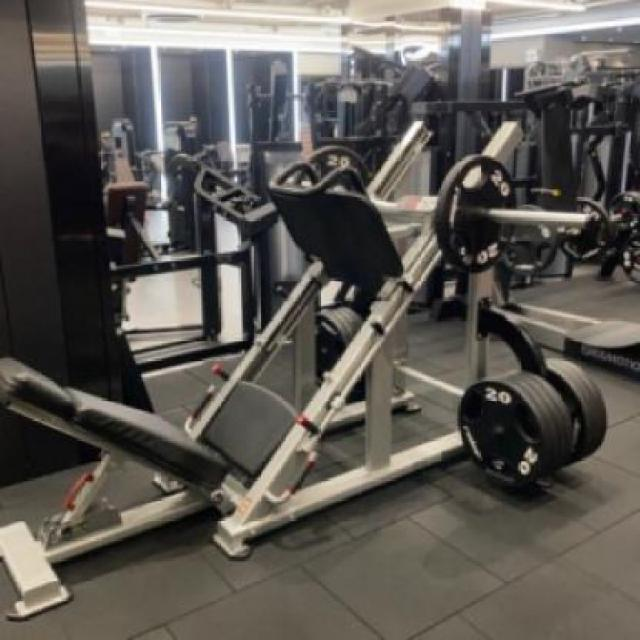leg press: (4, 101, 617, 640)
